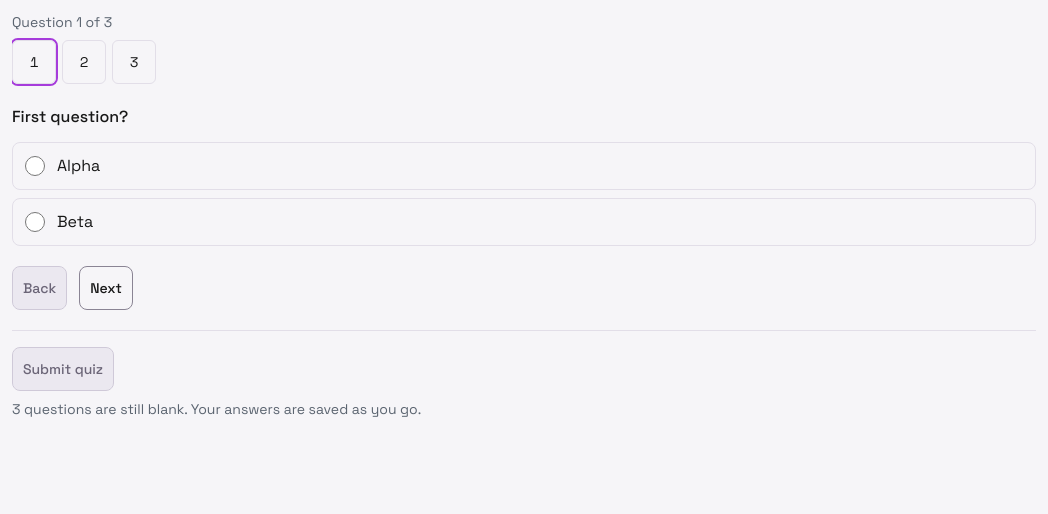
it: QuizStep › keeps Submit disabled until every question is answered
Expected: the text "First question?" is shown, left=12, top=106, right=128, bottom=127
Expected: the button "Submit quiz" is disabled, left=12, top=347, right=114, bottom=391
Click the radio button labelled "Alpha".
click(35, 166)  # box left=25, top=156, right=45, bottom=176
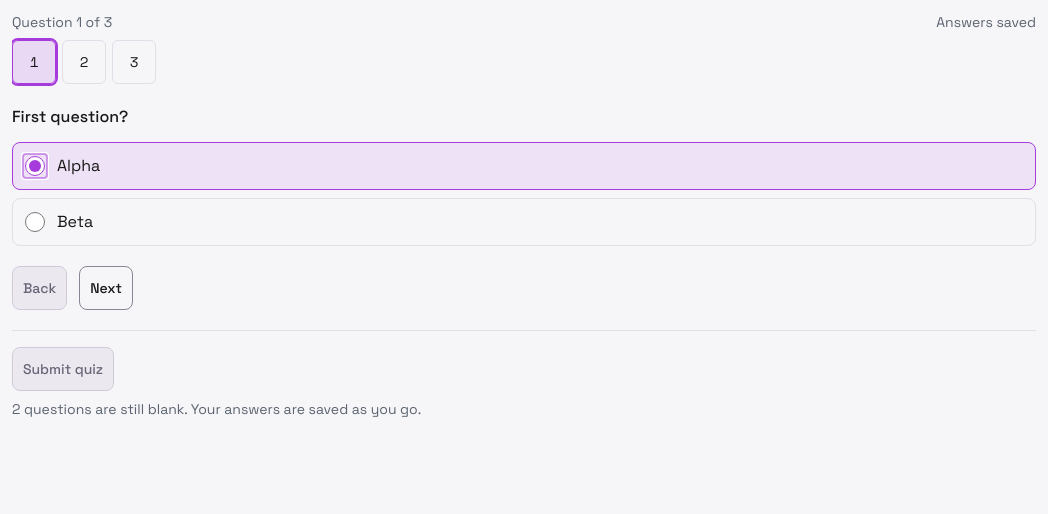
Click the button named "Question 2, not answered".
click(84, 62)  # box left=62, top=40, right=106, bottom=84
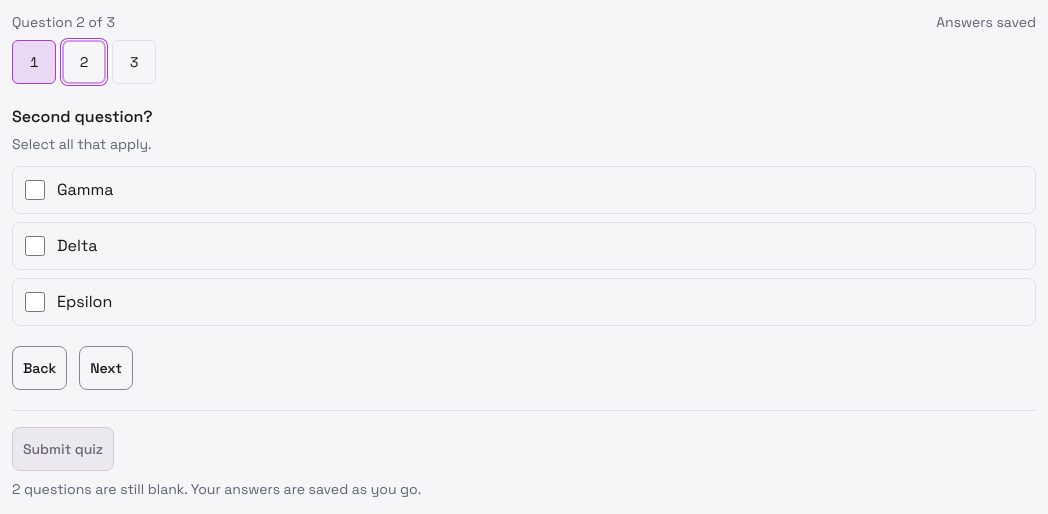
Click the checkbox labelled "Delta".
click(35, 246)  # box left=25, top=236, right=45, bottom=256
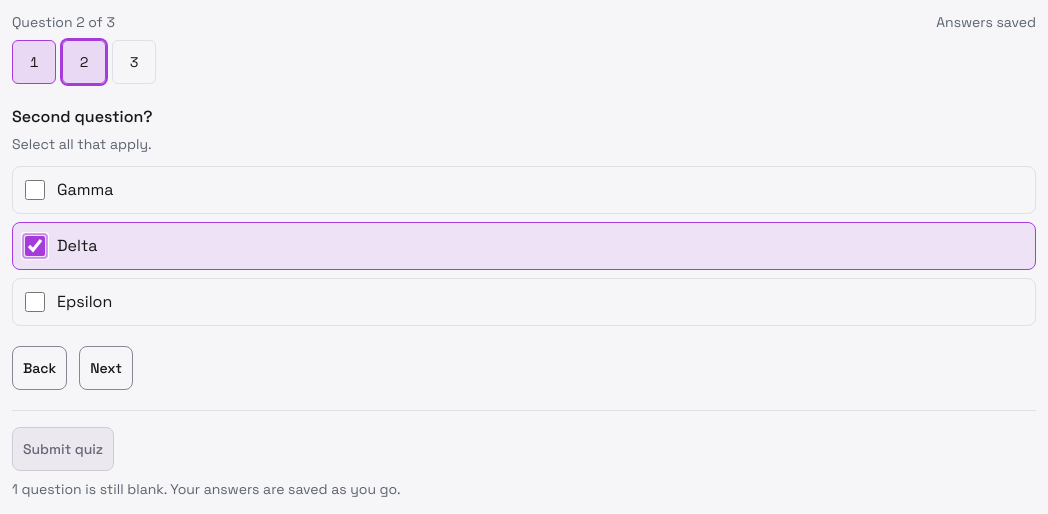
Expected: the button "Submit quiz" is disabled, left=12, top=427, right=114, bottom=471
Click the button named "Question 3, not answered".
click(134, 62)  # box left=112, top=40, right=156, bottom=84
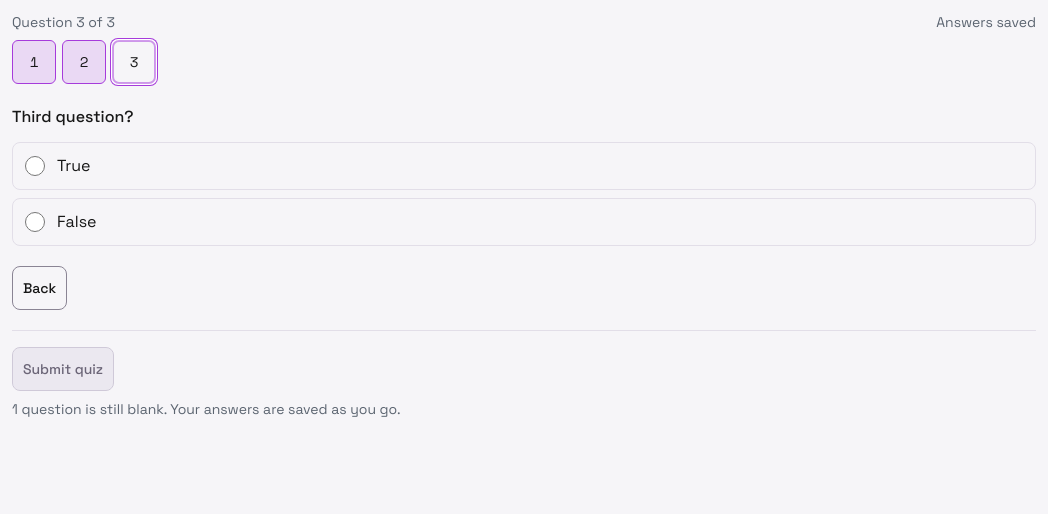
Click the radio button labelled "True".
click(35, 166)  # box left=25, top=156, right=45, bottom=176
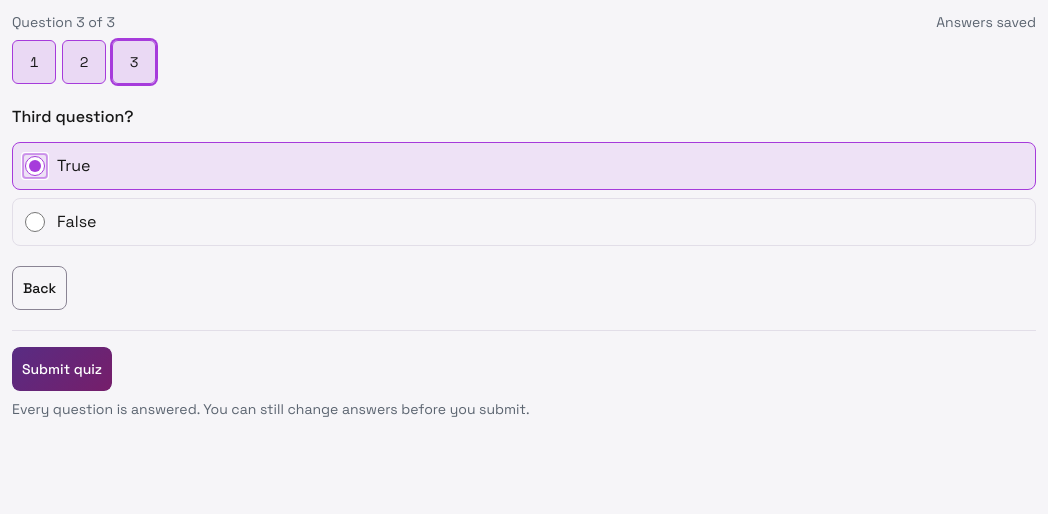
Expected: the button "Submit quiz" is enabled, left=12, top=347, right=112, bottom=391
